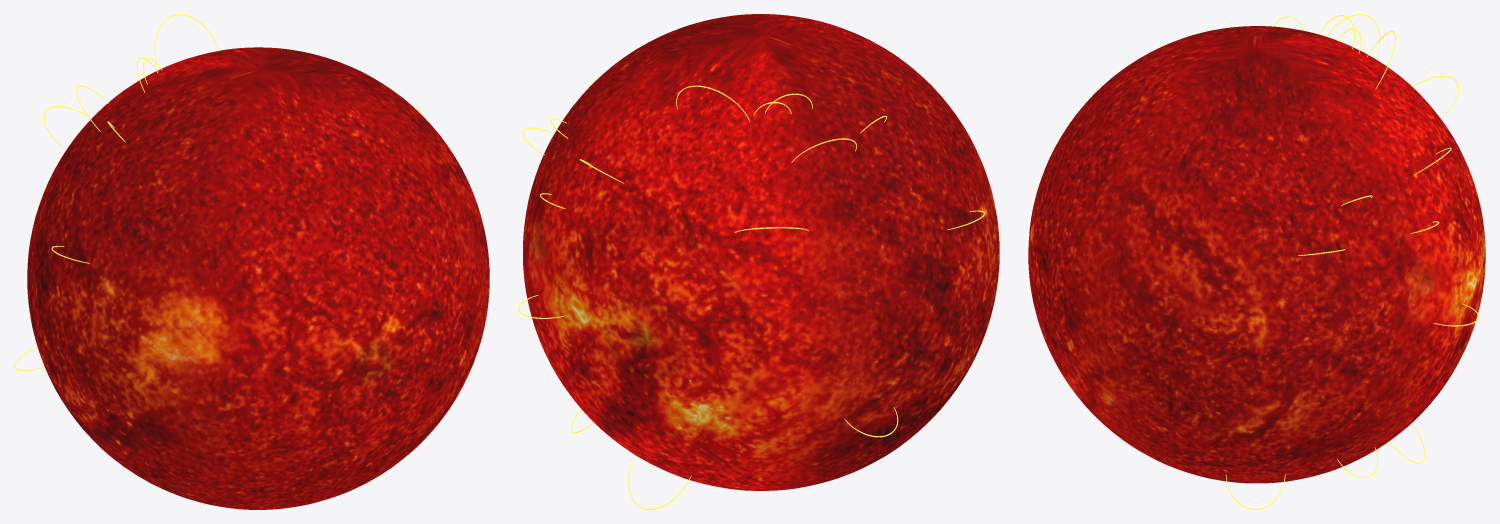
Rendered from sun-interior.glb.
3 renders of one model, left to right at view 1: azimuth 30°, elevation 25°; view 2: azimuth 150°, elevation 25°; view 3: azimuth 270°, elevation 25°, orthographic. The views are drawn at different scales.
Visible parts, largest first — view 1: observed_surface_cap, observed_surface, coronal_loops_mesh; view 2: observed_surface, observed_surface_cap, coronal_loops_mesh; view 3: observed_surface, observed_surface_cap, coronal_loops_mesh.
Boxes of the visible parts, x1,y1,x2,y2 form: observed_surface_cap: (160,69,488,509); observed_surface: (27,47,489,504); coronal_loops_mesh: (14,14,423,371); observed_surface: (523,18,999,490); observed_surface_cap: (717,14,990,185); coronal_loops_mesh: (518,85,984,509); observed_surface: (1125,26,1485,483); observed_surface_cap: (1028,33,1256,472); coronal_loops_mesh: (1225,14,1478,509).
Bounding box in the file's own units: 20.45 × 20.3 × 20.
Materials: 6 (4 with a texture image).
